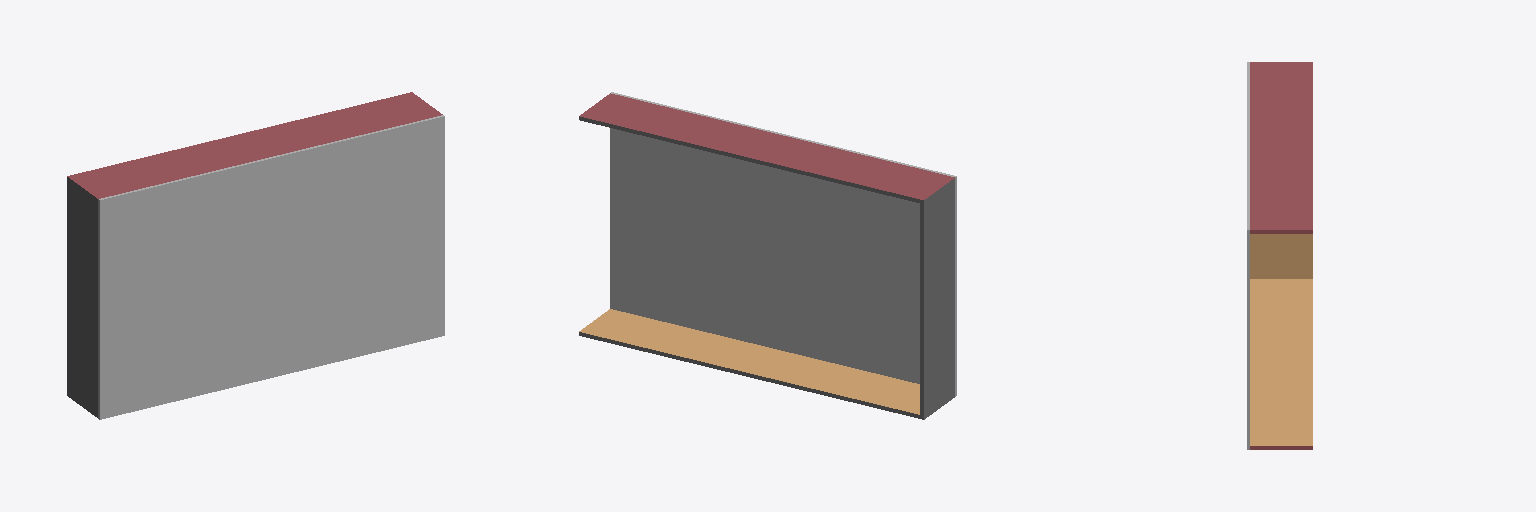
Rendered from asd.obj.
3 renders of one model, left to right at view 1: azimuth 30°, elevation 25°; view 2: azimuth 150°, elevation 25°; view 3: azimuth 270°, elevation 25°, orthographic.
Visible parts, largest first — view 1: Floors__Floor__Concrete Slab - 6"__288535, Walls__Basic Wall__Generic - 8"__288381, Walls__Basic Wall__Generic - 8"__288451; view 2: Floors__Floor__Concrete Slab - 6"__288535, Walls__Basic Wall__Generic - 8"__288381, Walls__Basic Wall__Generic - 8"__288517, Walls__Basic Wall__Generic - 8"__288451; view 3: Walls__Basic Wall__Generic - 8"__288381, Walls__Basic Wall__Generic - 8"__288517, Walls__Basic Wall__Generic - 8"__288451, Floors__Floor__Concrete Slab - 6"__288535.
Part boxes in pixels (left/top/right/bottom): Floors__Floor__Concrete Slab - 6"__288535: left=98, top=115, right=444, bottom=419; Walls__Basic Wall__Generic - 8"__288381: left=67, top=92, right=442, bottom=202; Walls__Basic Wall__Generic - 8"__288451: left=67, top=181, right=97, bottom=417; Floors__Floor__Concrete Slab - 6"__288535: left=610, top=92, right=956, bottom=396; Walls__Basic Wall__Generic - 8"__288381: left=579, top=93, right=954, bottom=203; Walls__Basic Wall__Generic - 8"__288517: left=579, top=309, right=919, bottom=418; Walls__Basic Wall__Generic - 8"__288451: left=920, top=182, right=954, bottom=419; Walls__Basic Wall__Generic - 8"__288381: left=1250, top=62, right=1312, bottom=233; Walls__Basic Wall__Generic - 8"__288517: left=1250, top=279, right=1312, bottom=449; Walls__Basic Wall__Generic - 8"__288451: left=1250, top=234, right=1312, bottom=278; Floors__Floor__Concrete Slab - 6"__288535: left=1247, top=62, right=1249, bottom=449.
Bounding box in the file's own units: 60.33 × 36.67 × 10.